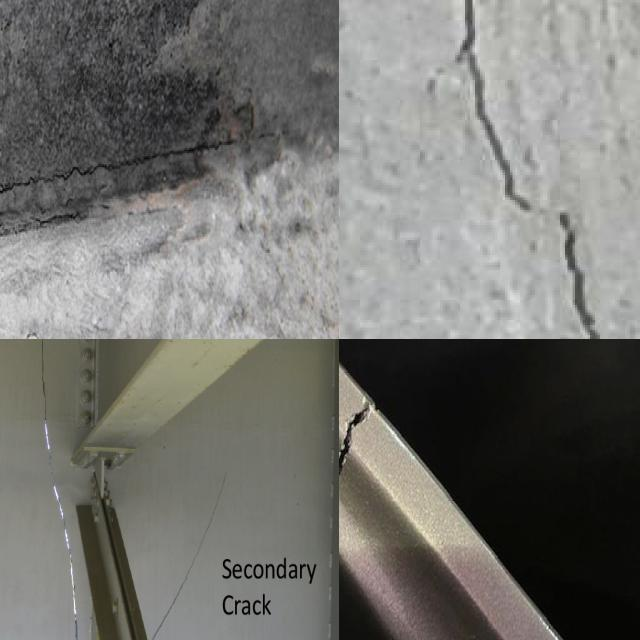Crack: (0, 135, 282, 235), (455, 0, 528, 210), (42, 339, 79, 640), (560, 212, 598, 338), (339, 397, 374, 474)
